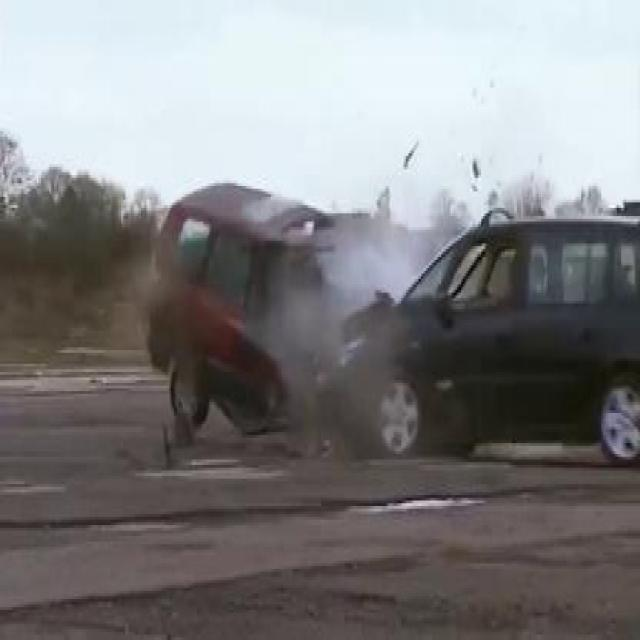accident: (137, 158, 638, 486)
